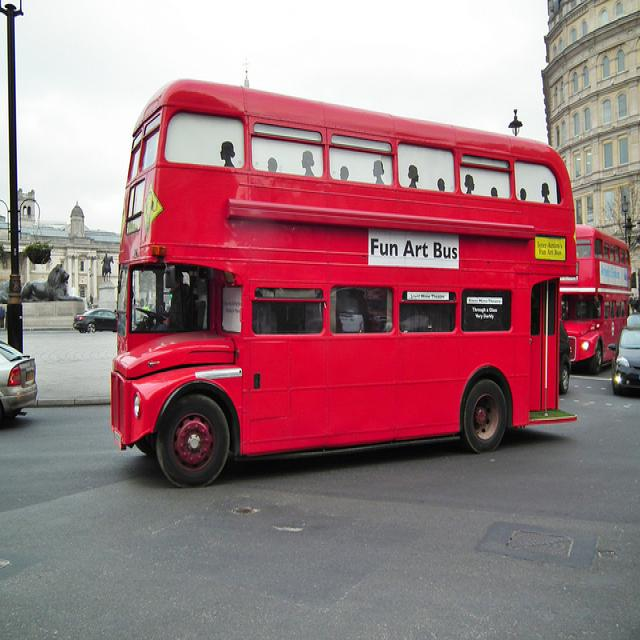Vehicle: (109, 74, 579, 492), (560, 224, 630, 365), (0, 341, 38, 425), (608, 327, 640, 397), (73, 308, 118, 333), (559, 320, 570, 394)
